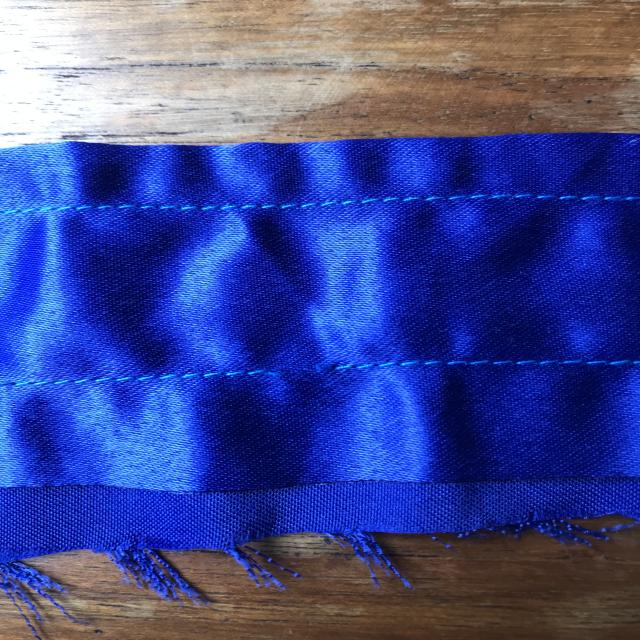broken: (234, 348, 376, 406)
good: (240, 186, 420, 231)
